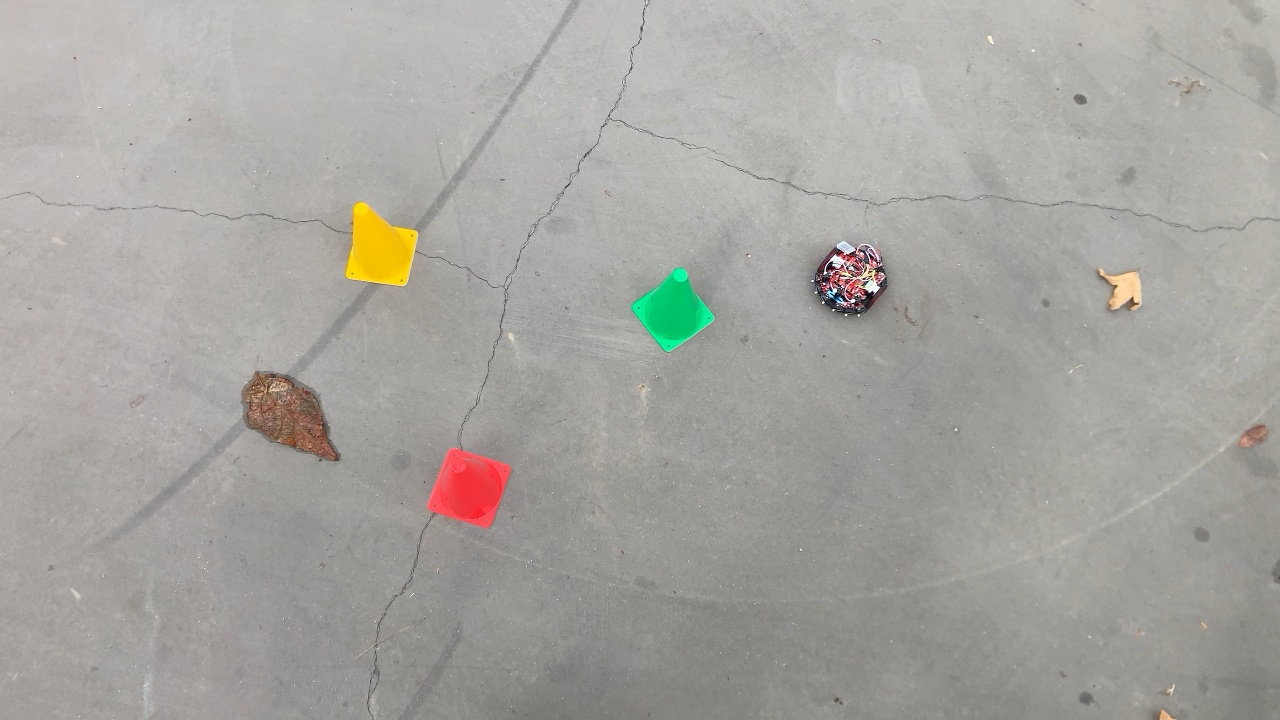green_cone: (628, 266, 717, 353)
red_cone: (427, 446, 512, 533)
robot: (810, 240, 893, 321)
yellow_cone: (345, 200, 421, 291)
